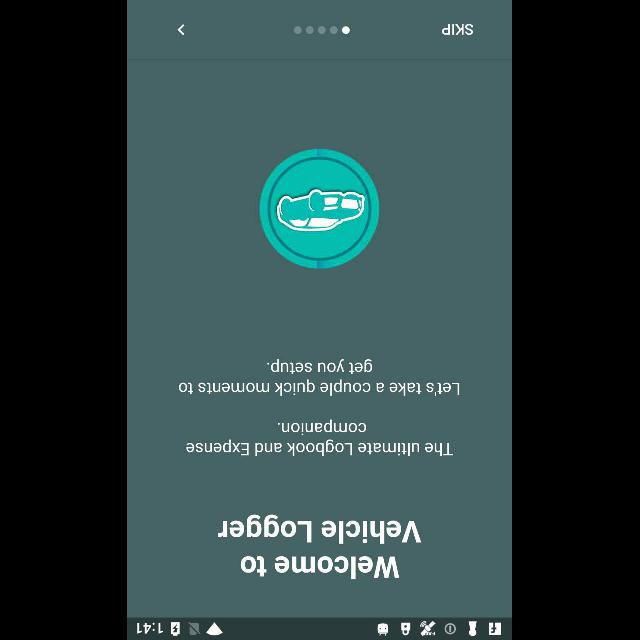icon: (178, 24, 186, 36)
image: (260, 149, 380, 269)
pageindicator: (294, 26, 351, 34)
text: (219, 514, 423, 580), (179, 358, 461, 396), (186, 419, 454, 456), (442, 23, 474, 35)
uppertaskbar: (128, 617, 512, 639)
